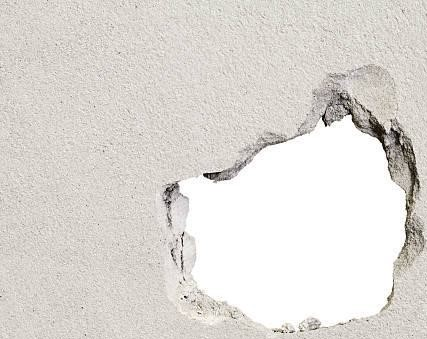Spalling: (160, 84, 427, 335)
